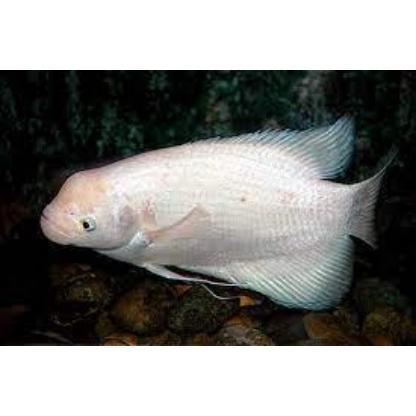gurame: (36, 126, 378, 308)
